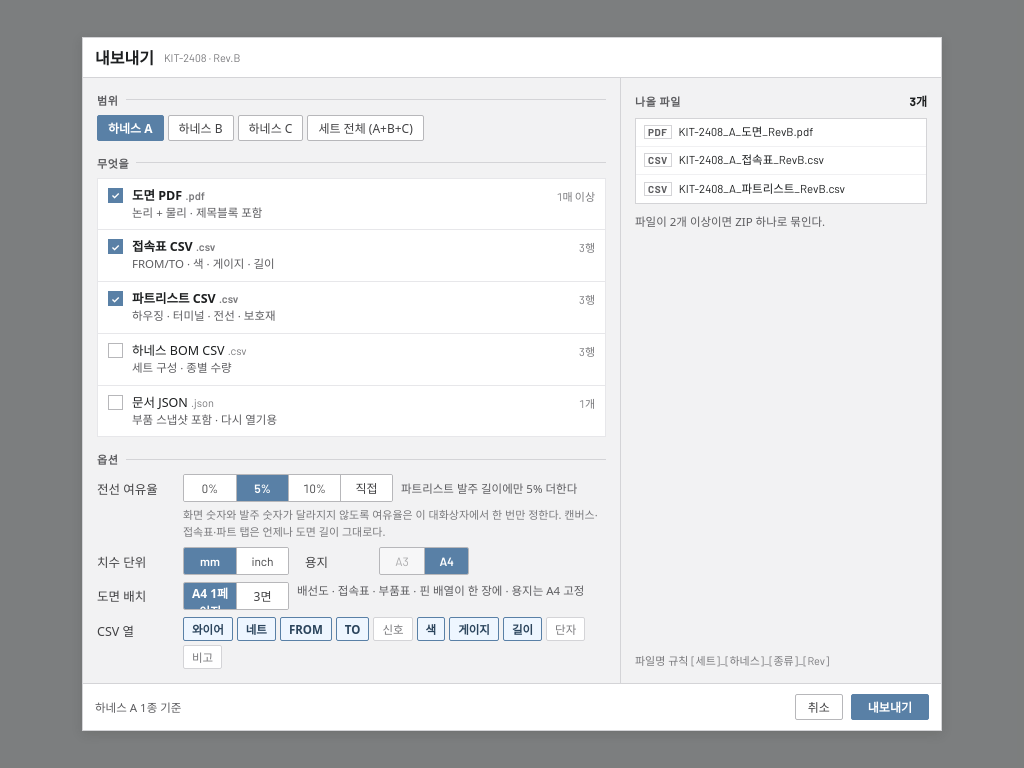
Test: 내보내기 대화상자 §6 › 여유율 세그먼트를 바꾸면 안내 문구가 따라온다
Expected: the text "파트리스트 발주 길이에만 5% 더한다" is shown, [401,480,577,496]
Click the button "0%": click(210, 488) [184,476,236,502]
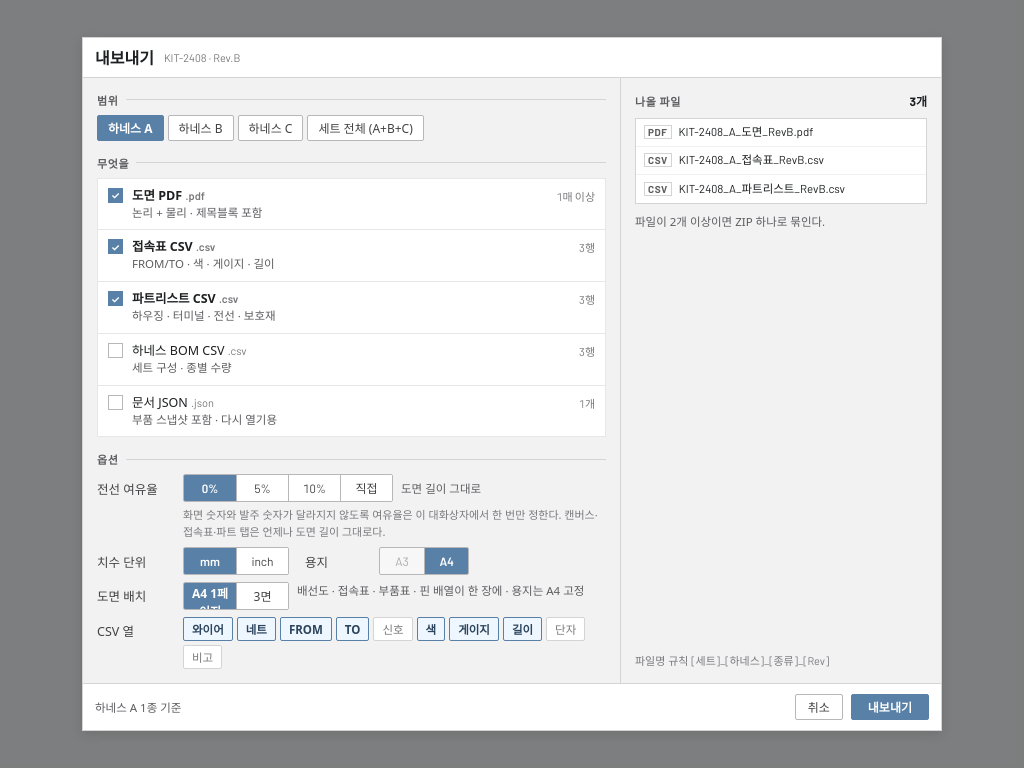
Expected: the text "도면 길이 그대로" is shown, [401,480,481,496]
Click the button "10%": click(314, 488) [288,476,340,502]
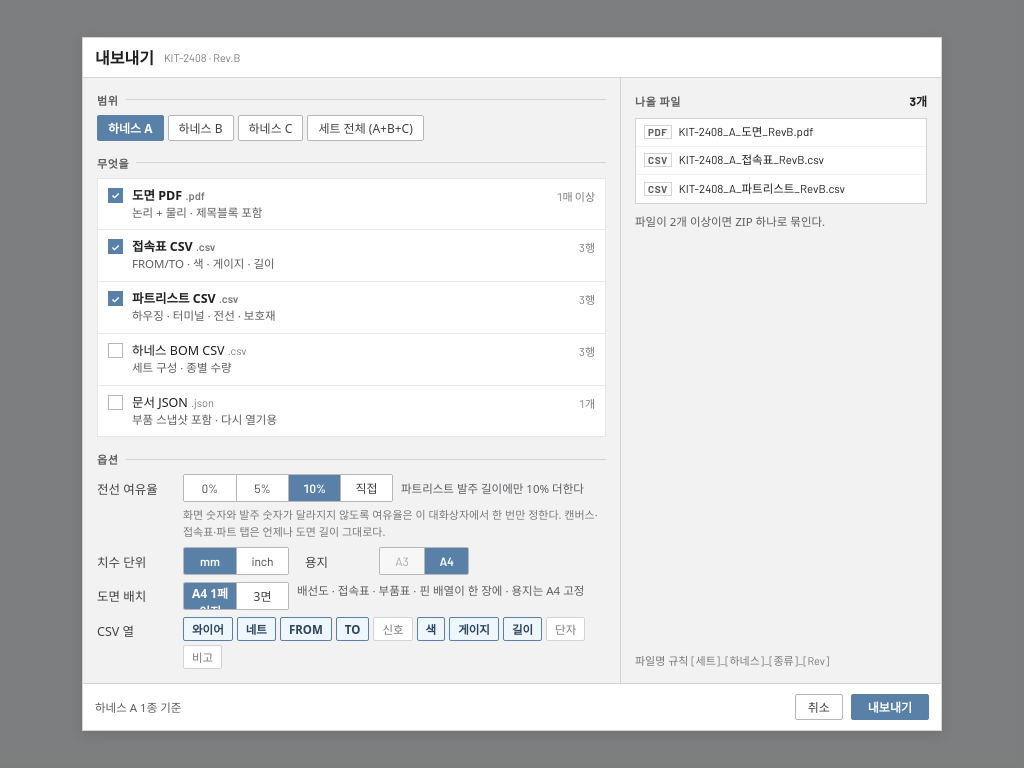
Expected: the text "파트리스트 발주 길이에만 10% 더한다" is shown, [401,480,584,496]
Click the button "직접": click(366, 488) [340,476,392,502]
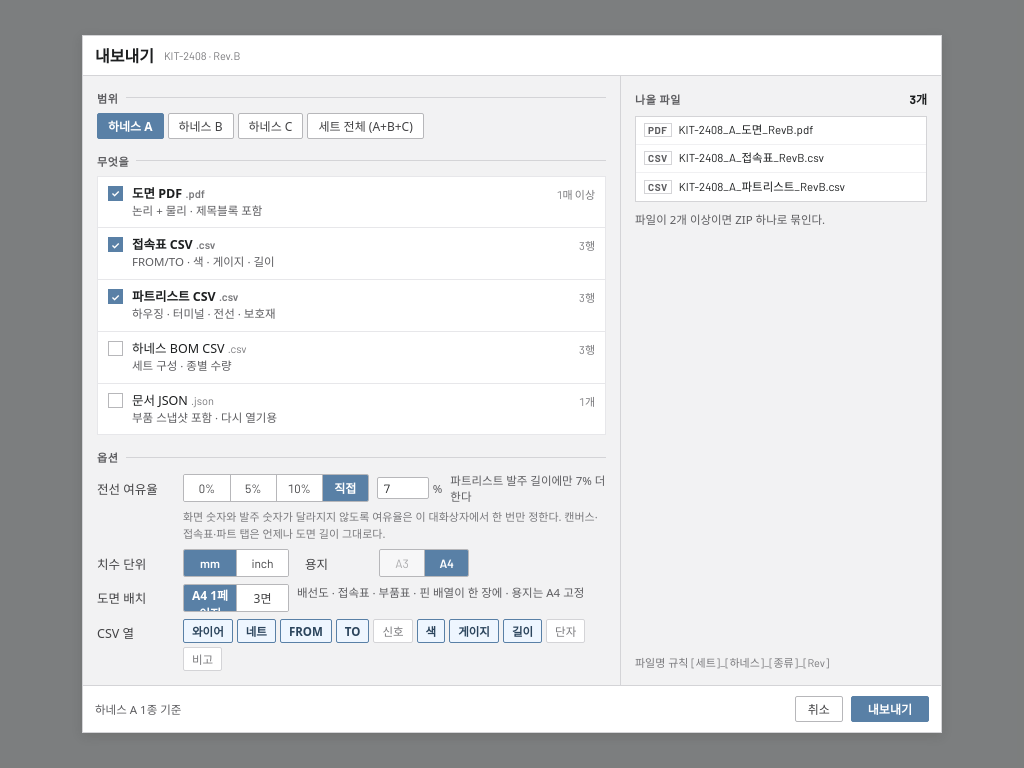
Replace the text in the number field named "여유율 직접 입력" with "12": (403, 488) [377,478,429,500]
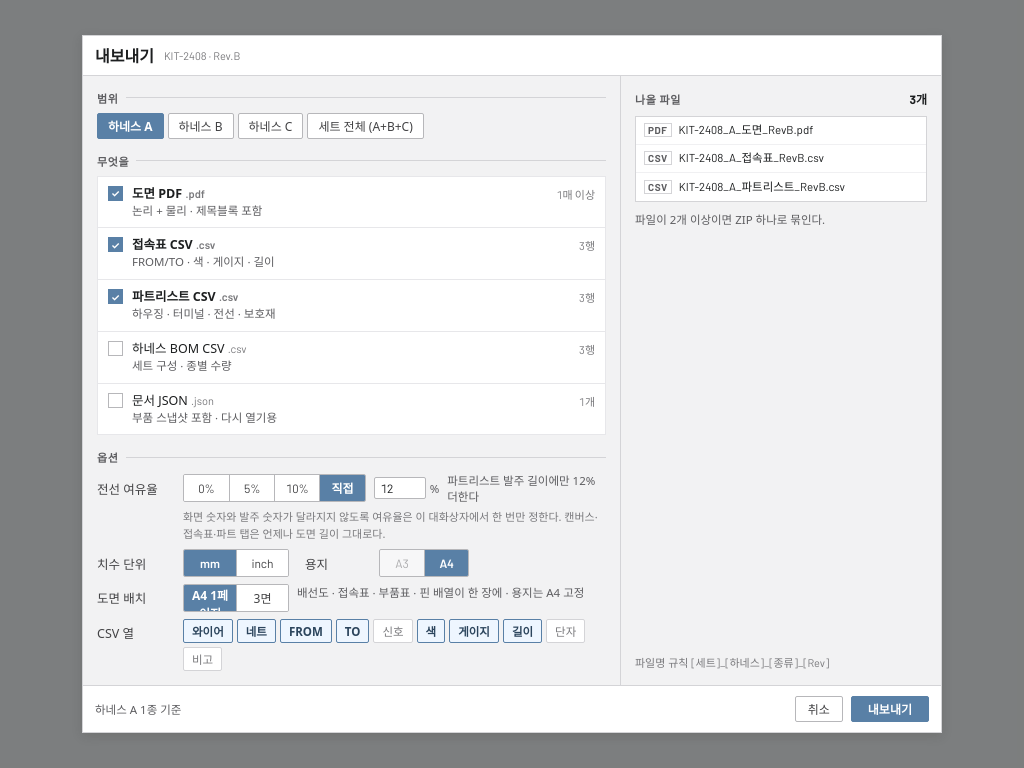
Expected: the text "파트리스트 발주 길이에만 12% 더한다" is shown, [447,472,606,504]
